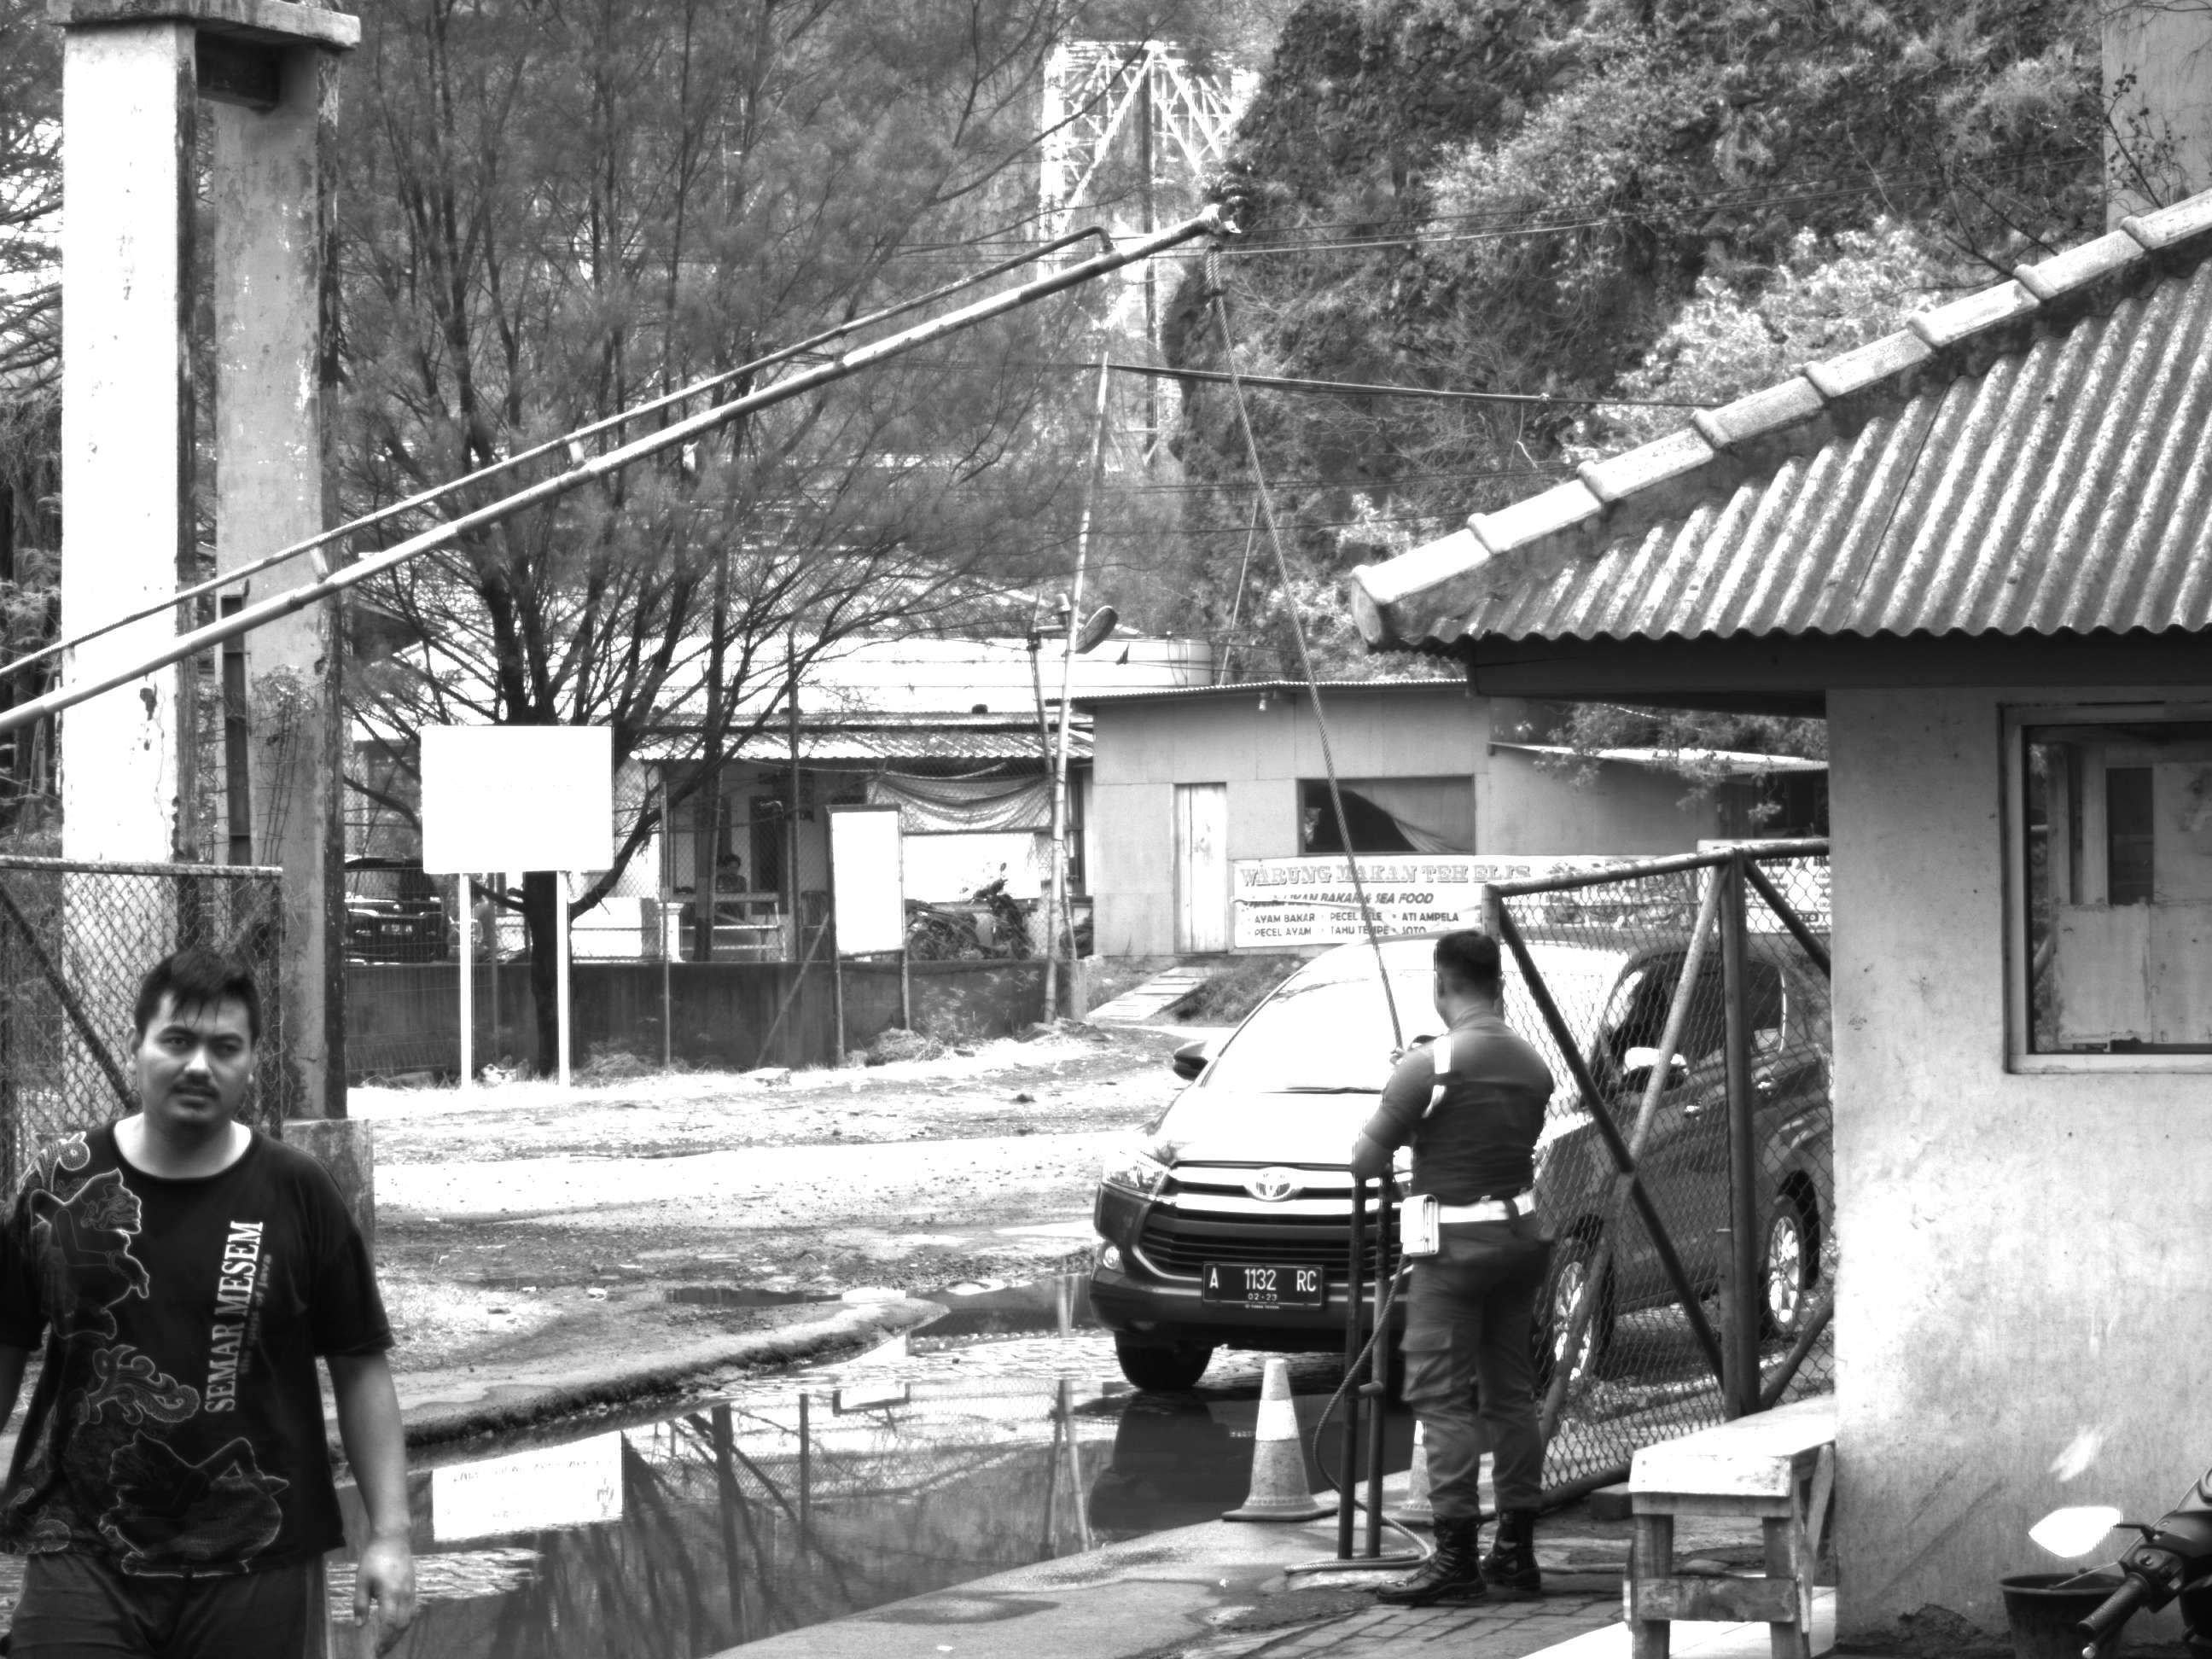day_small_front: (1085, 928, 1624, 1400)
plate: (1204, 1266, 1321, 1305)
